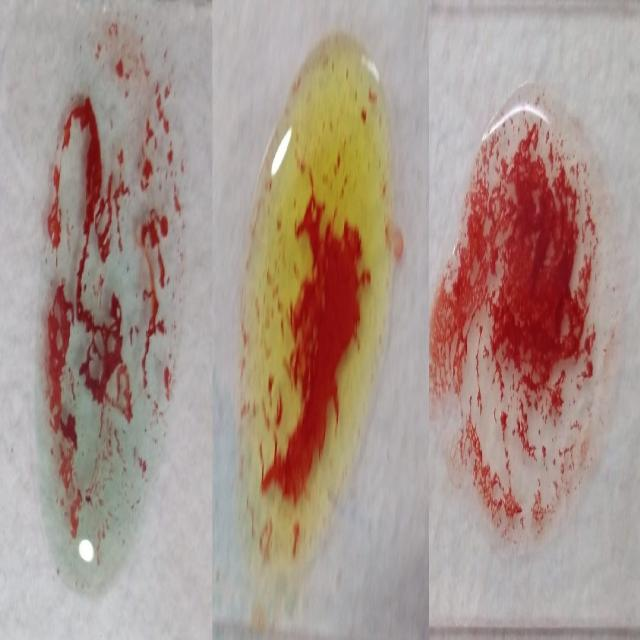A: (43, 12, 175, 585)
B: (242, 29, 388, 526)
D: (441, 79, 594, 561)
